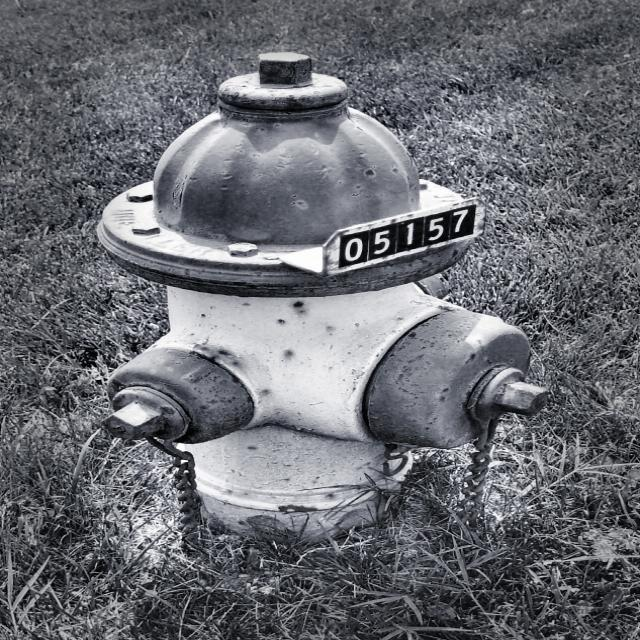fire_hydrant: (95, 53, 541, 545)
